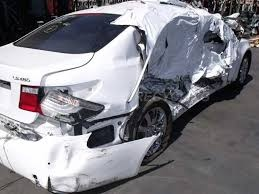Broken-glass: (39, 81, 104, 119)
Smashed: (1, 113, 162, 193), (138, 10, 248, 104)
